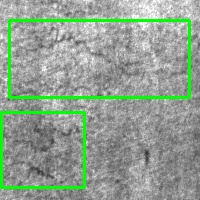crazing: (9, 20, 189, 97), (1, 112, 84, 187)
